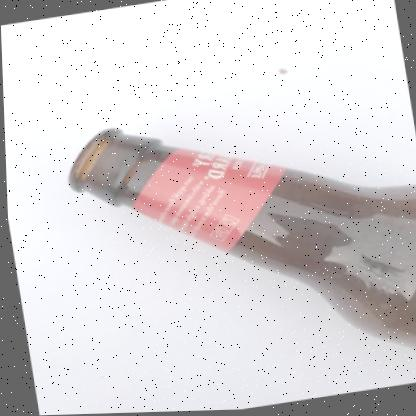Glass: (67, 128, 416, 352)
